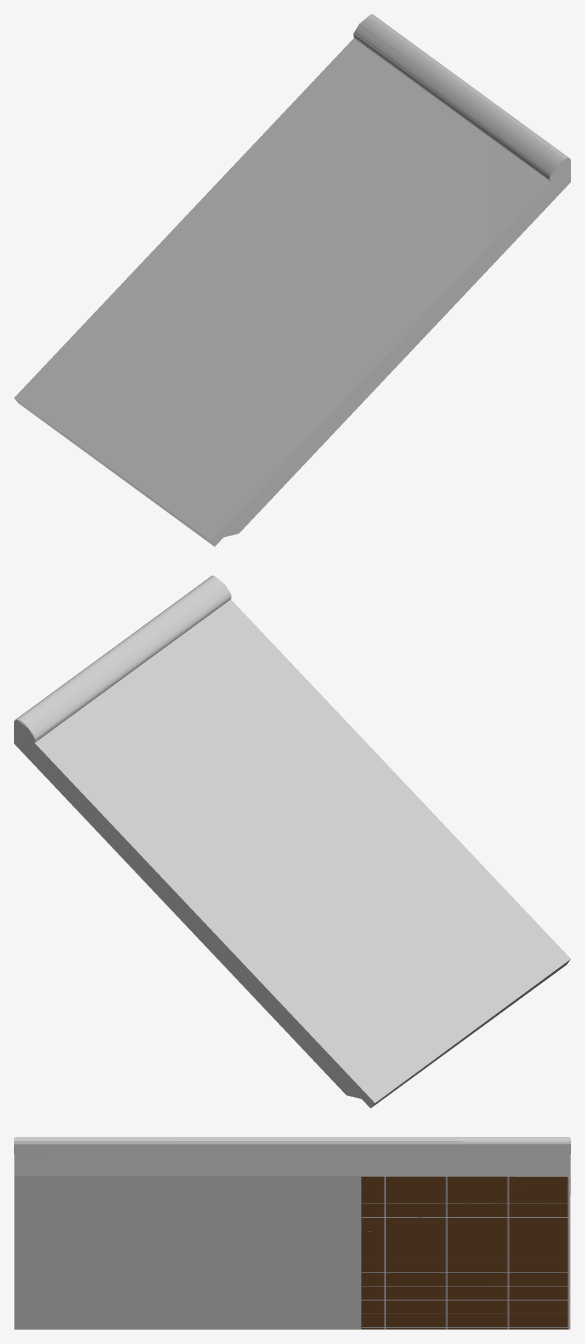
Rendered from SM_M01Roof01_1.fbx.
The picture shows the model from 3 angles, top to bottom: view 1: azimuth 30°, elevation 25°; view 2: azimuth 150°, elevation 25°; view 3: azimuth 270°, elevation 25°; orthographic projection. The views are drawn at different scales.
Visible parts, largest first — view 1: SM_M01Roof01_1_ConvexHulls, SM_M01Roof01_1; view 2: SM_M01Roof01_1_ConvexHulls, SM_M01Roof01_1; view 3: SM_M01Roof01_1_ConvexHulls, SM_M01Roof01_1.
Part boxes in pixels (left/top/right/bottom): SM_M01Roof01_1_ConvexHulls: left=14, top=14, right=570, bottom=546; SM_M01Roof01_1: left=353, top=14, right=566, bottom=240; SM_M01Roof01_1_ConvexHulls: left=14, top=575, right=570, bottom=1108; SM_M01Roof01_1: left=18, top=576, right=286, bottom=741; SM_M01Roof01_1_ConvexHulls: left=14, top=1138, right=570, bottom=1329; SM_M01Roof01_1: left=15, top=1137, right=569, bottom=1329.
Size of the model in its own units: 479 by 452 by 384.
